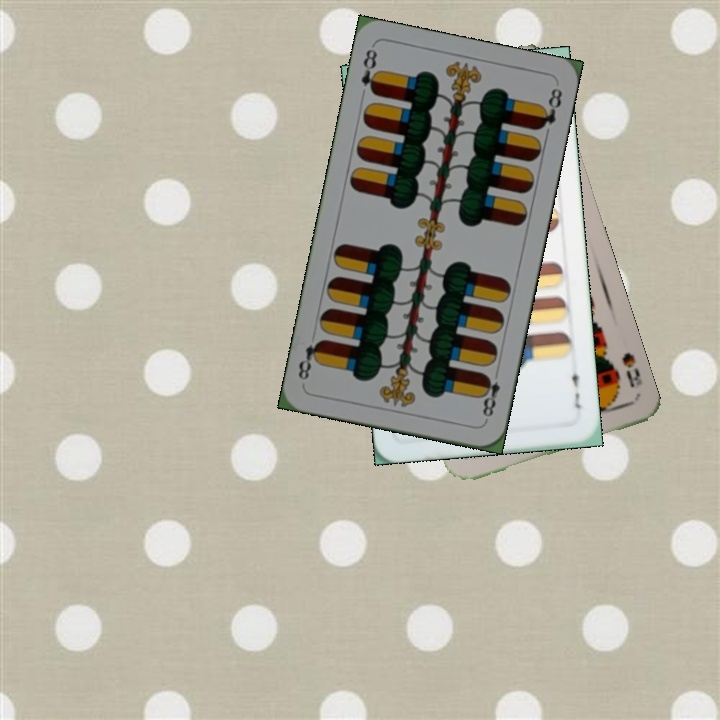E7: (567, 362, 584, 411)
E8: (477, 365, 503, 424), (357, 44, 383, 97)
S8: (617, 348, 645, 390)
